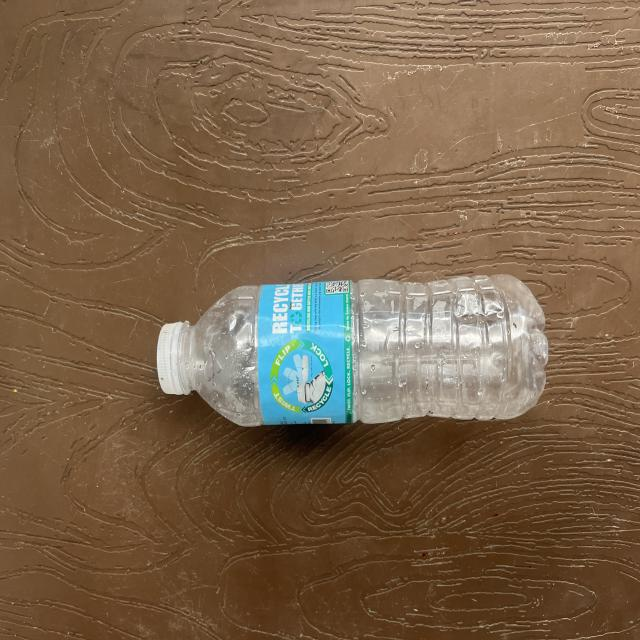REJECT: (161, 266, 529, 430)
